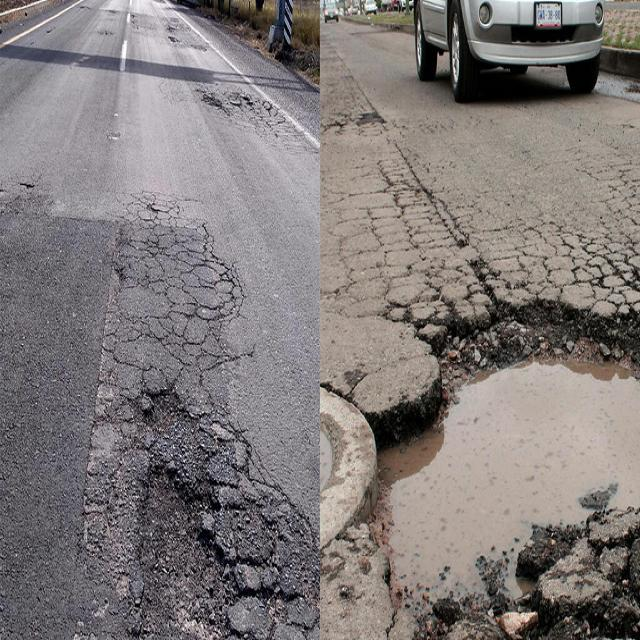Pothole: (346, 196, 640, 640), (94, 241, 314, 640)
